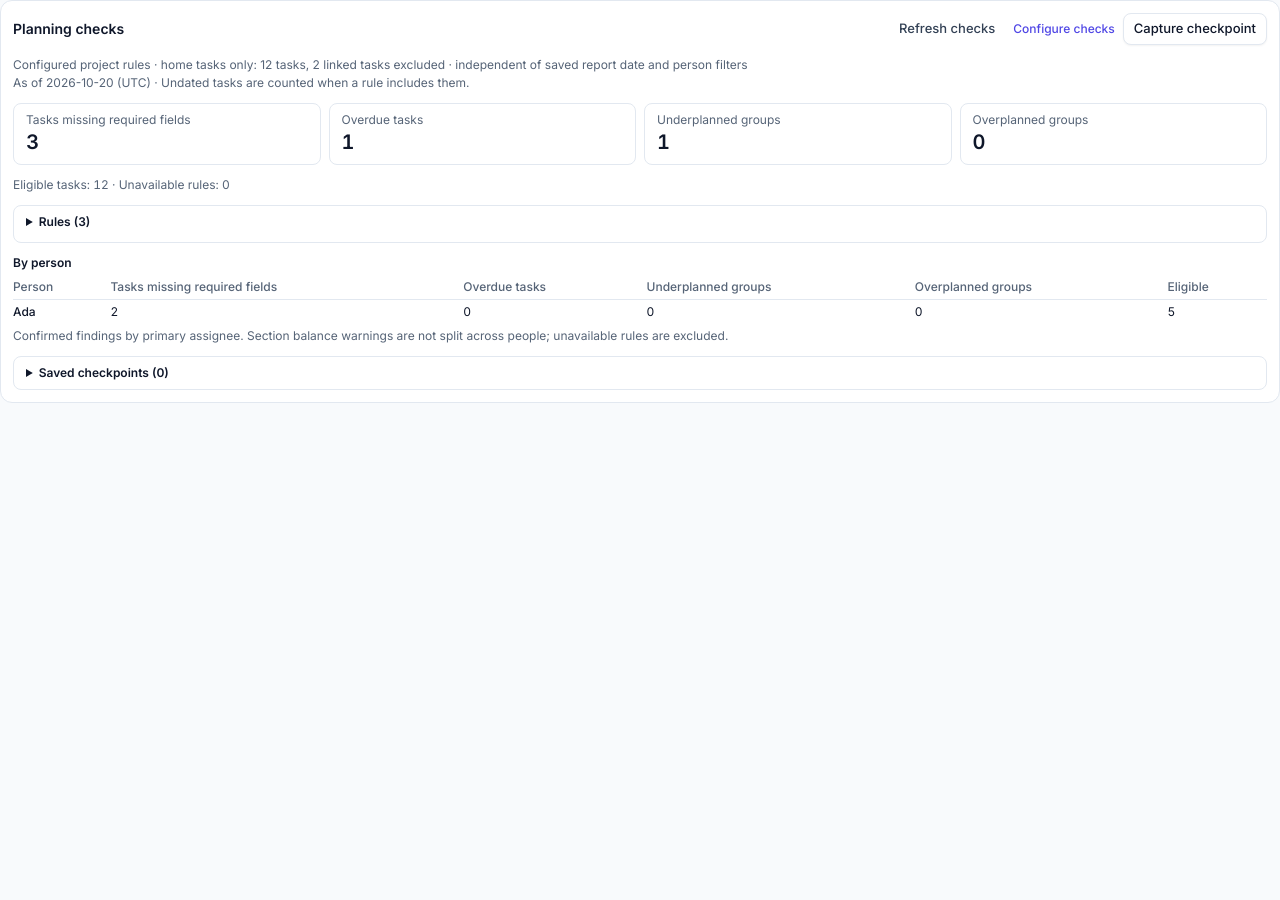
Scenario: project report read and capture controls › pages only current server issues with the pinned assessment source token
The width and height of the screenshot is (1280, 900).
Expected: the element "Tasks missing required fields" is shown, [13,103,320,165]
Click the heading "Rules (3)" at (64, 222), box [39,214,90,229]
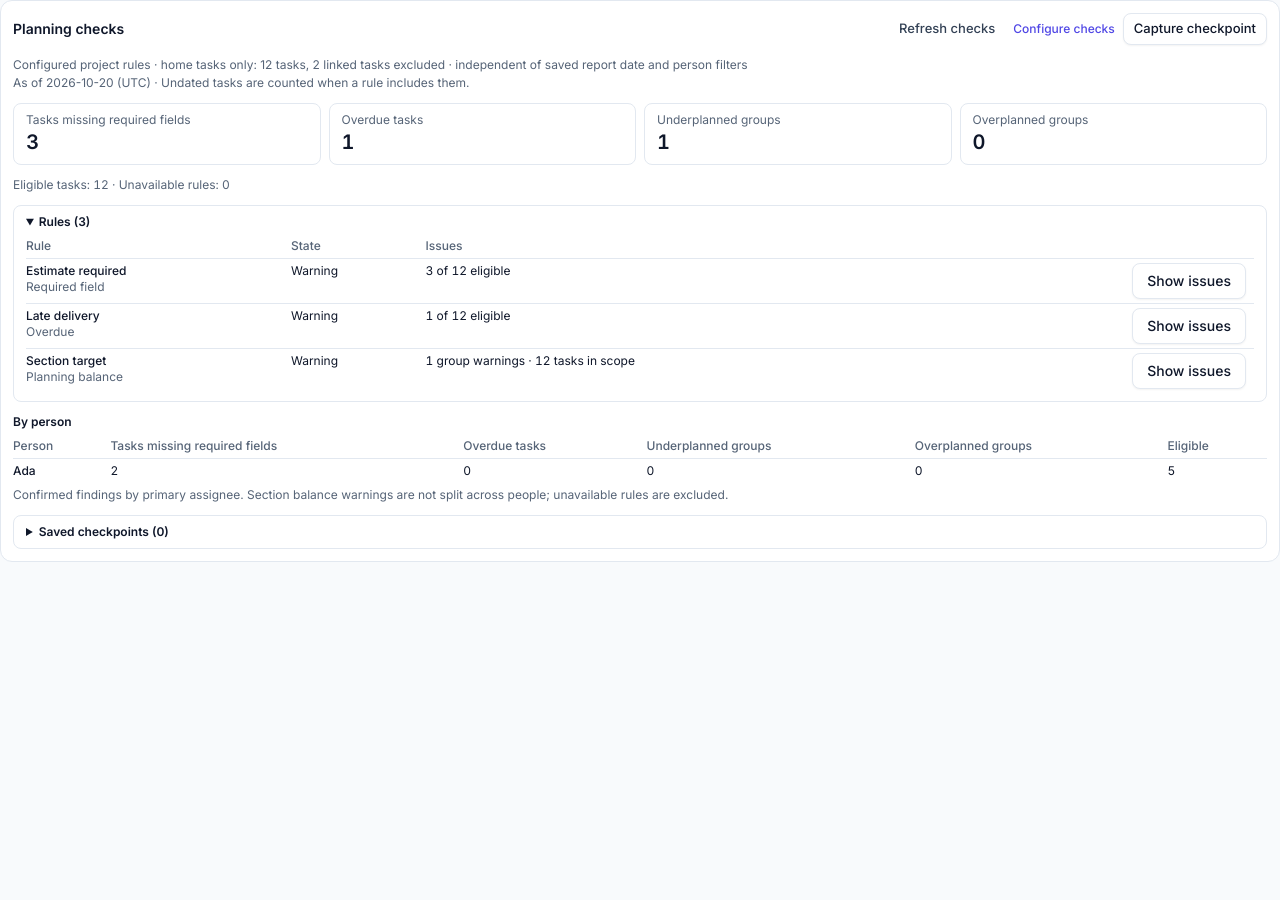
Click the button with aria-label "Show issues for Estimate required" at (1189, 281), box [1132,263,1246,299]
(page scrolled)
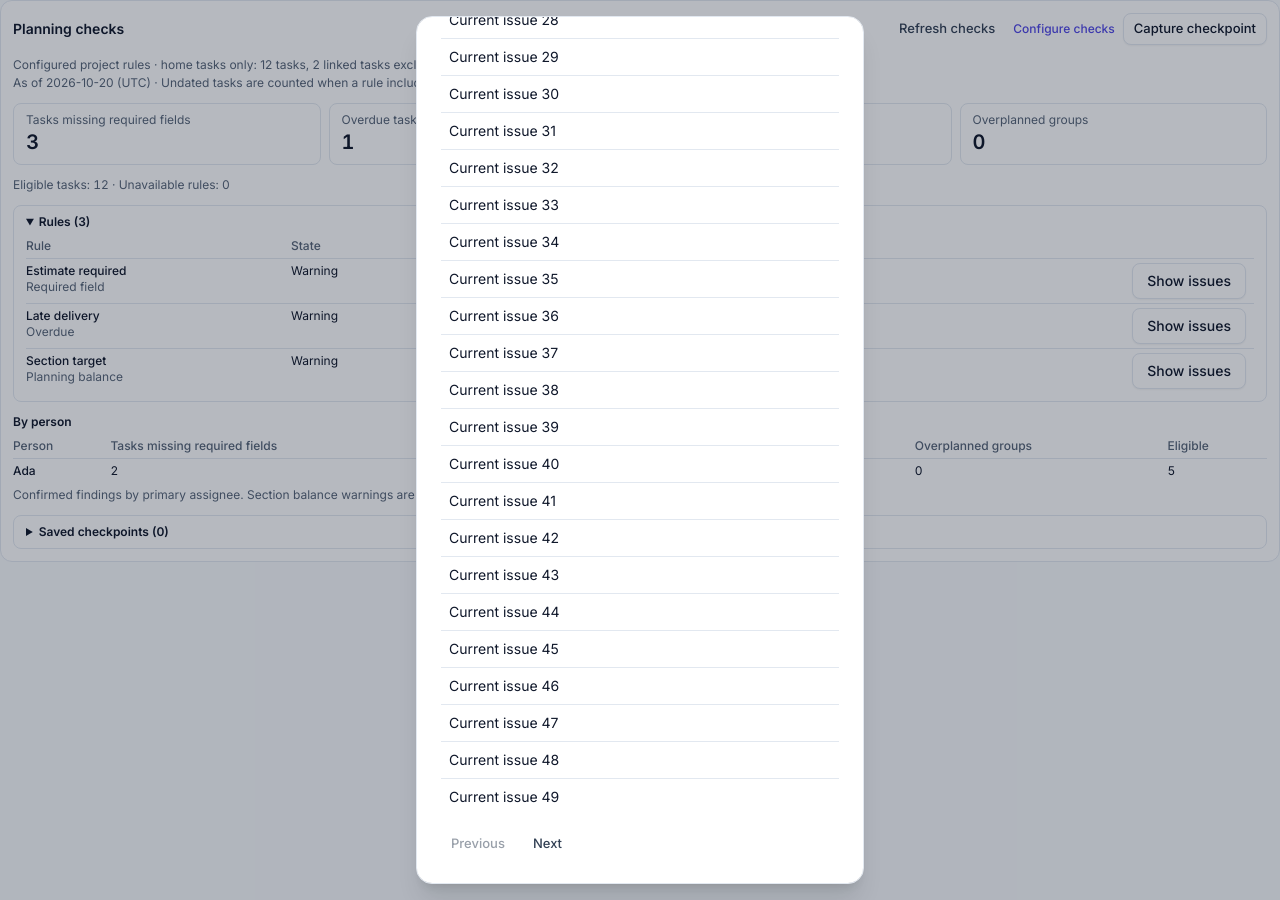
Click the button "Next" at (547, 843), box [523,827,572,859]
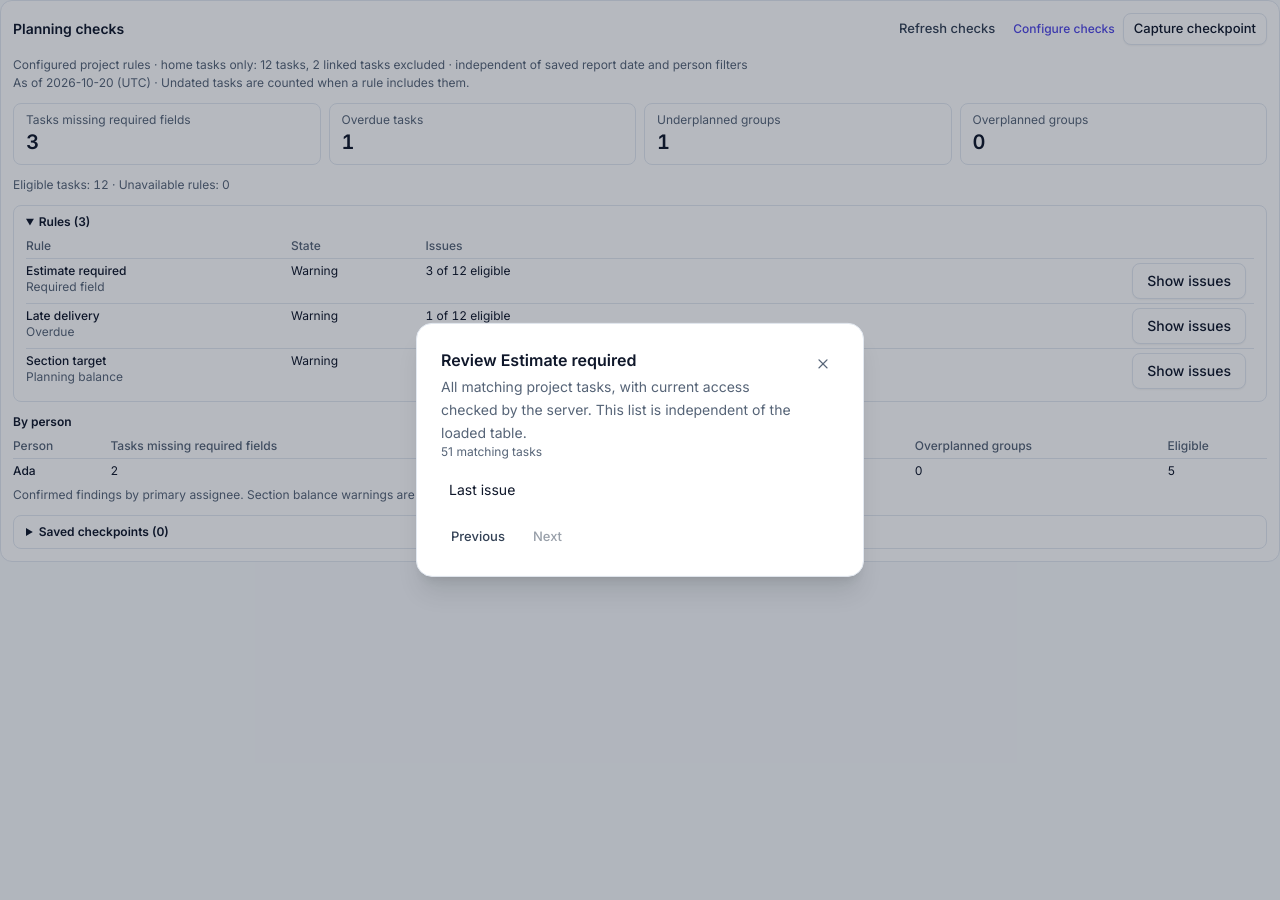
Now the button "Last issue" is shown, box [441,472,839,508]
